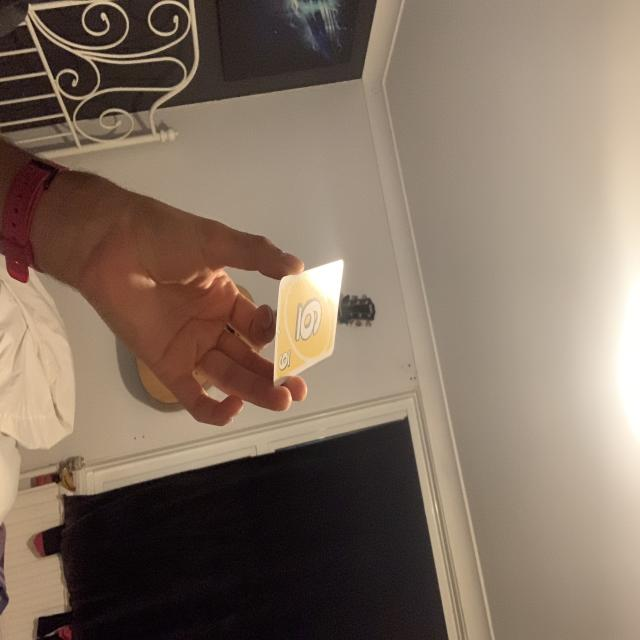lyellow-6: (276, 349, 296, 376)
